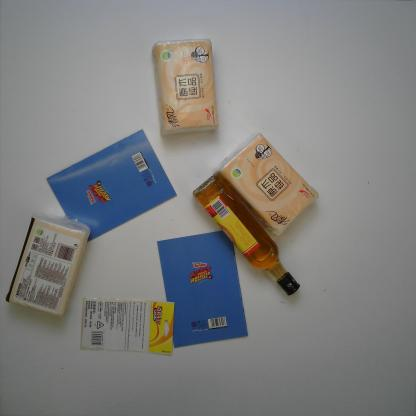Seasoner: (192, 170, 301, 296)
Stationery: (44, 126, 179, 248), (157, 226, 249, 350), (79, 298, 178, 357)
Tissue: (214, 130, 320, 241), (4, 212, 92, 317), (151, 35, 221, 137)
